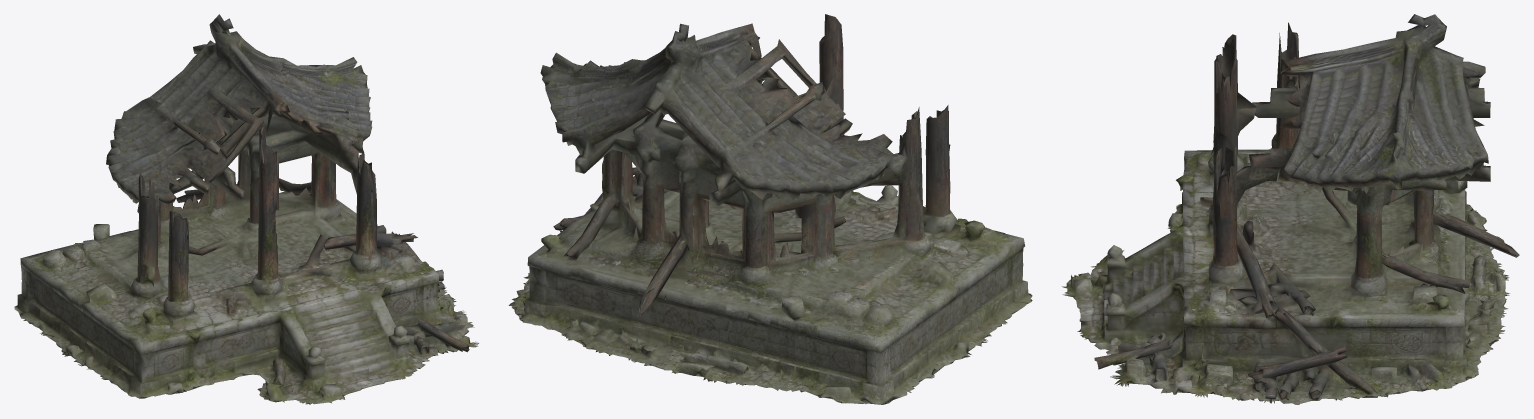
The model's file is t951_temple_ruin.glb.
3 renders of one model, left to right at view 1: azimuth 30°, elevation 25°; view 2: azimuth 150°, elevation 25°; view 3: azimuth 270°, elevation 25°, orthographic. The views are drawn at different scales.
Visible parts, largest first — view 1: tripo_node_bb5085fd-f361-4792-93b7-2290b644d37f; view 2: tripo_node_bb5085fd-f361-4792-93b7-2290b644d37f; view 3: tripo_node_bb5085fd-f361-4792-93b7-2290b644d37f.
Part boxes in pixels (<box>): tripo_node_bb5085fd-f361-4792-93b7-2290b644d37f: <box>14,14,478,404</box>; tripo_node_bb5085fd-f361-4792-93b7-2290b644d37f: <box>508,14,1032,404</box>; tripo_node_bb5085fd-f361-4792-93b7-2290b644d37f: <box>1062,14,1519,404</box>.
Bounding box in the file's own units: 0.9768 × 0.6714 × 0.9231.
Materials: 1 (1 with a texture image).
